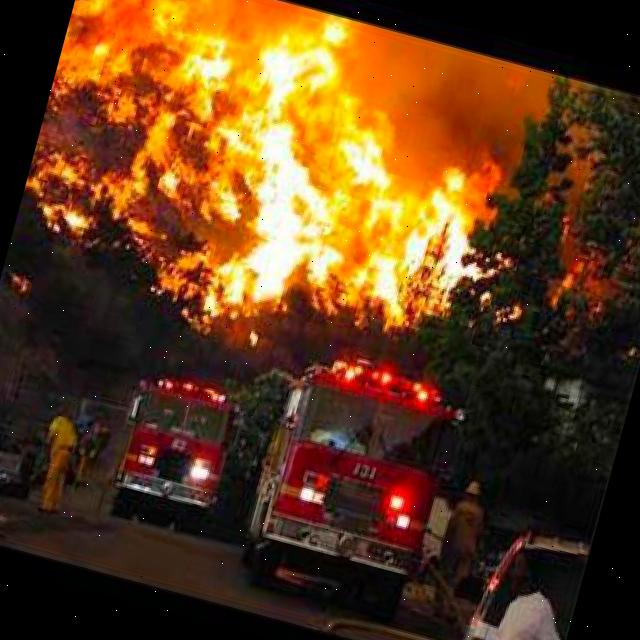fire: (34, 0, 519, 373)
